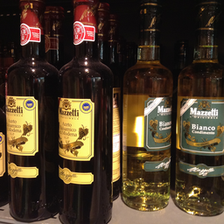vinegar: (55, 2, 114, 224), (5, 3, 56, 221), (124, 2, 173, 211), (176, 7, 224, 218)
